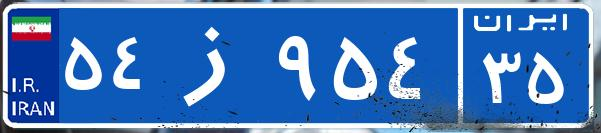3: (475, 38, 525, 113)
4: (385, 28, 445, 110), (110, 28, 158, 105)
5: (330, 28, 385, 110), (57, 26, 110, 107), (525, 38, 570, 115)
9: (273, 28, 330, 110)
ز: (158, 15, 273, 115)
